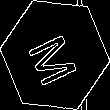M_NE: (25, 24, 85, 86)
